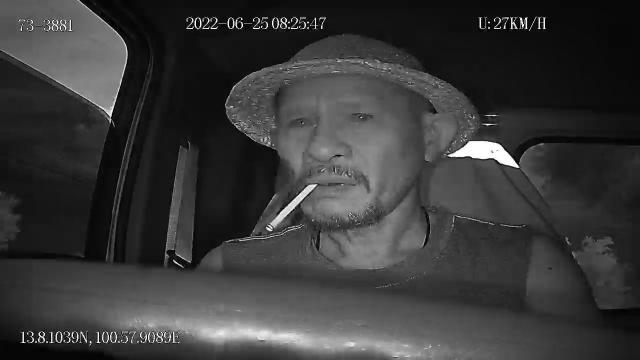SafeDriving: (341, 99, 382, 128), (284, 108, 322, 134)
Smoking: (266, 183, 318, 233)
